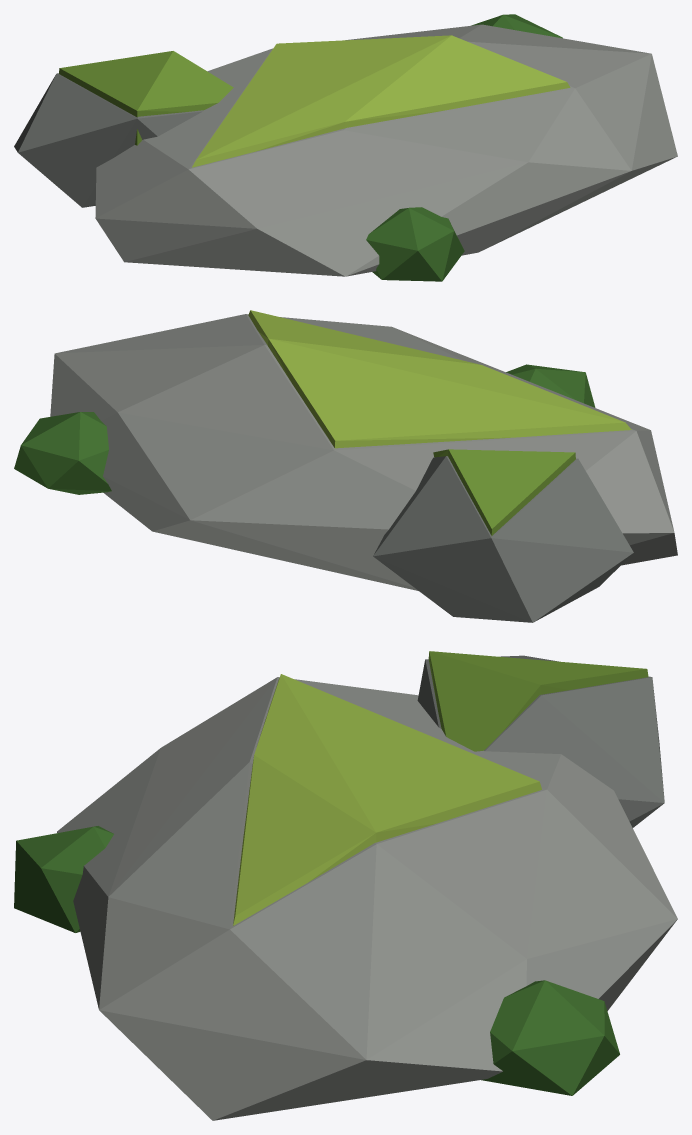
Rendered from forest_boulder_b.glb.
3 renders of one model, top to bottom at view 1: azimuth 30°, elevation 25°; view 2: azimuth 150°, elevation 25°; view 3: azimuth 270°, elevation 25°, orthographic. The views are drawn at different scales.
Visible parts, largest first — view 1: forest_boulder_b; view 2: forest_boulder_b; view 3: forest_boulder_b.
Part boxes in pixels (box(x1,y1,x2,y2)): forest_boulder_b: box(14, 14, 677, 281); forest_boulder_b: box(14, 310, 677, 622); forest_boulder_b: box(14, 651, 677, 1120).
Size of the model in its own units: 4.72 by 0.9845 by 3.3.
